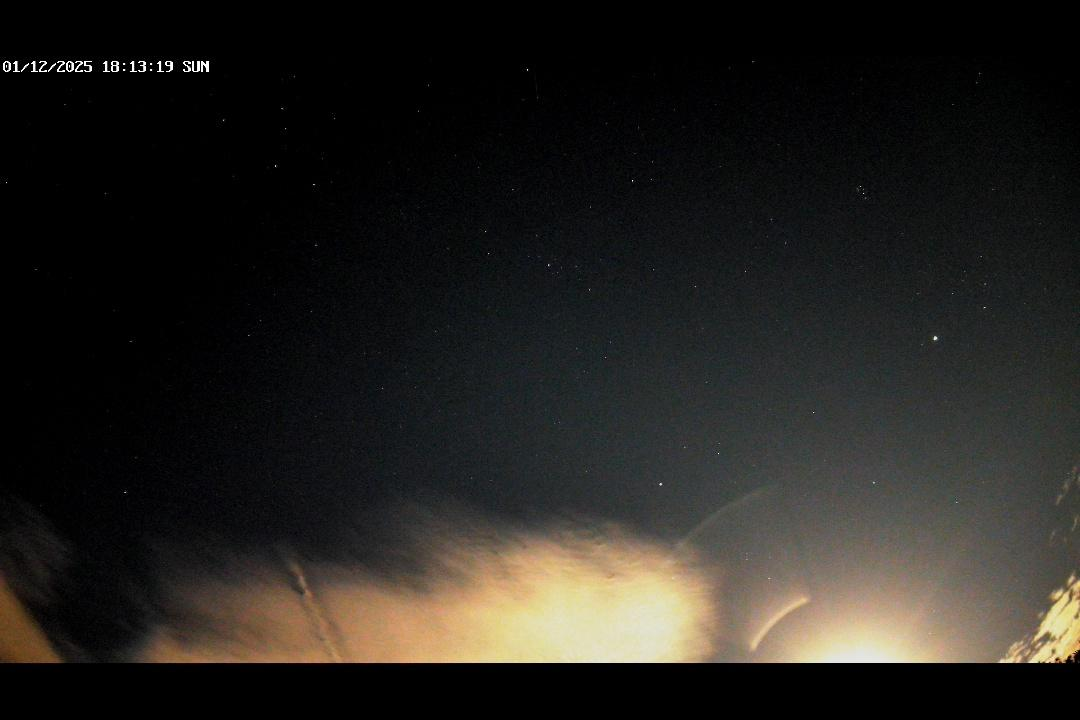Plane: (531, 72, 544, 101)
